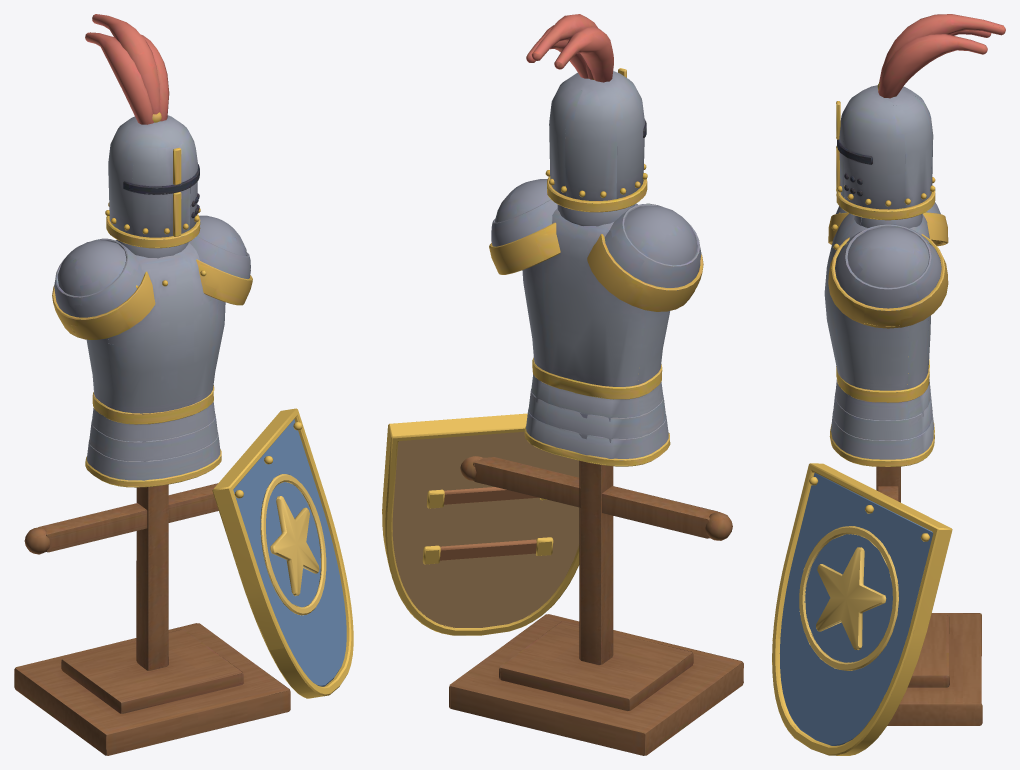
Rendered from armadura.glb.
3 renders of one model, left to right at view 1: azimuth 30°, elevation 25°; view 2: azimuth 150°, elevation 25°; view 3: azimuth 270°, elevation 25°, orthographic. The views are drawn at different scales.
Parts seen in each view (by area): view 1: armor-stand_body; view 2: armor-stand_body; view 3: armor-stand_body.
Boxes of the visible parts, left/top/right/bottom form: armor-stand_body: left=14, top=14, right=353, bottom=755; armor-stand_body: left=382, top=14, right=743, bottom=755; armor-stand_body: left=772, top=14, right=1005, bottom=755.
Bounding box in the file's own units: 1.03 × 2.03 × 0.6454.
Materials: 6 (1 with a texture image).
